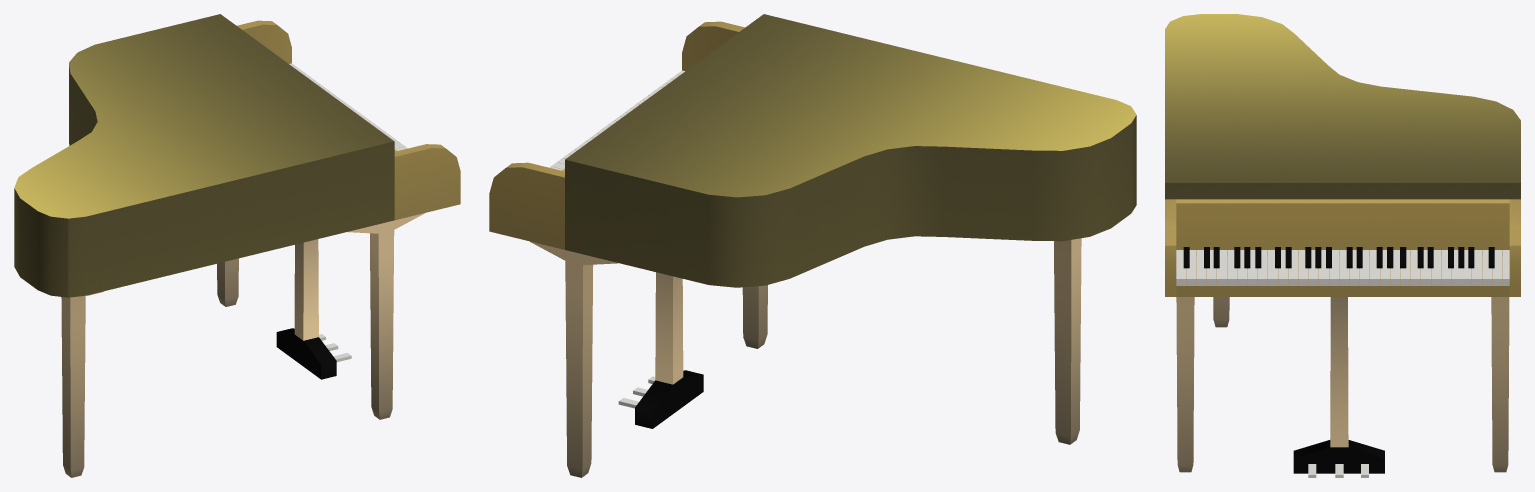
File: PROP_piano.fbx
3 views of the same model, side by side, from view 1: azimuth 30°, elevation 25°; view 2: azimuth 150°, elevation 25°; view 3: azimuth 270°, elevation 25° (orthographic). The views are drawn at different scales.
Visible parts, largest first — view 1: PROP_piano; view 2: PROP_piano; view 3: PROP_piano.
Part boxes in pixels (left/top/right/bottom): PROP_piano: left=14, top=14, right=460, bottom=477; PROP_piano: left=489, top=14, right=1136, bottom=477; PROP_piano: left=1165, top=14, right=1520, bottom=477.
Bounding box in the file's own units: 150 × 99.73 × 112.
